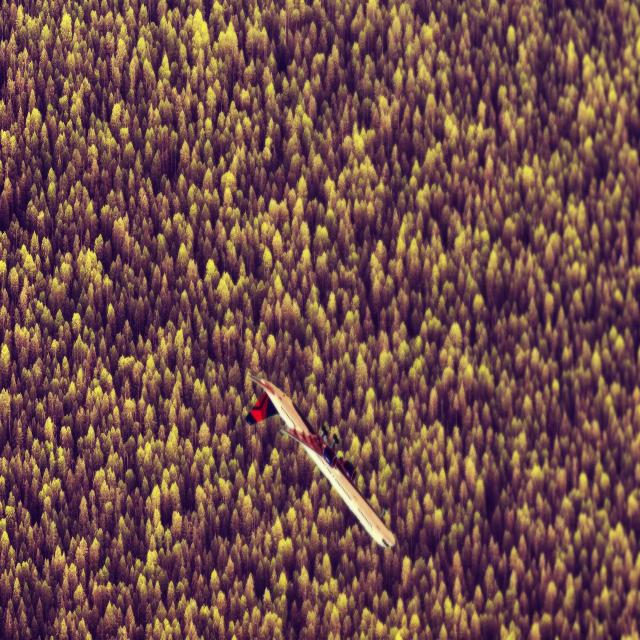airplane: (244, 371, 396, 550)
